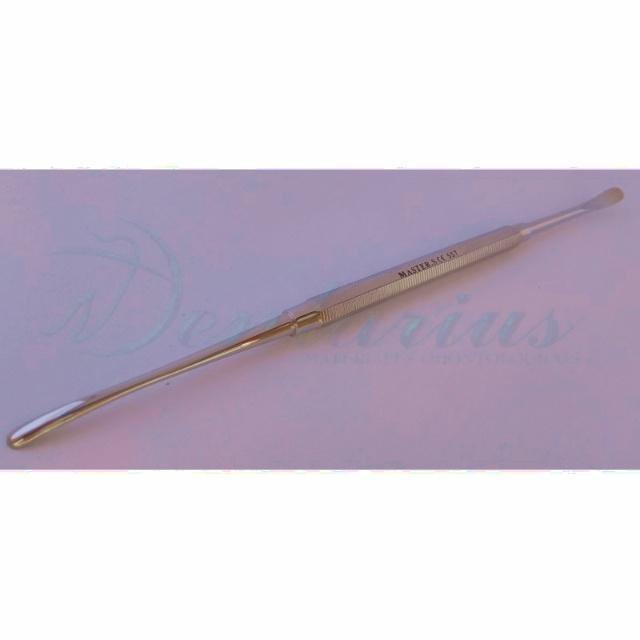elevador: (9, 192, 619, 452)
